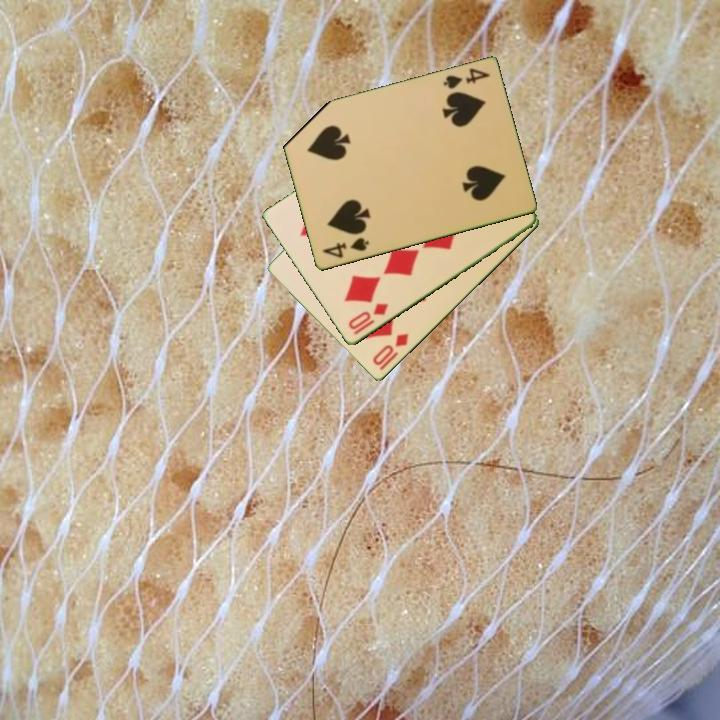10d: (345, 300, 391, 338), (369, 330, 412, 369)
4s: (319, 234, 372, 261), (440, 65, 493, 92)
